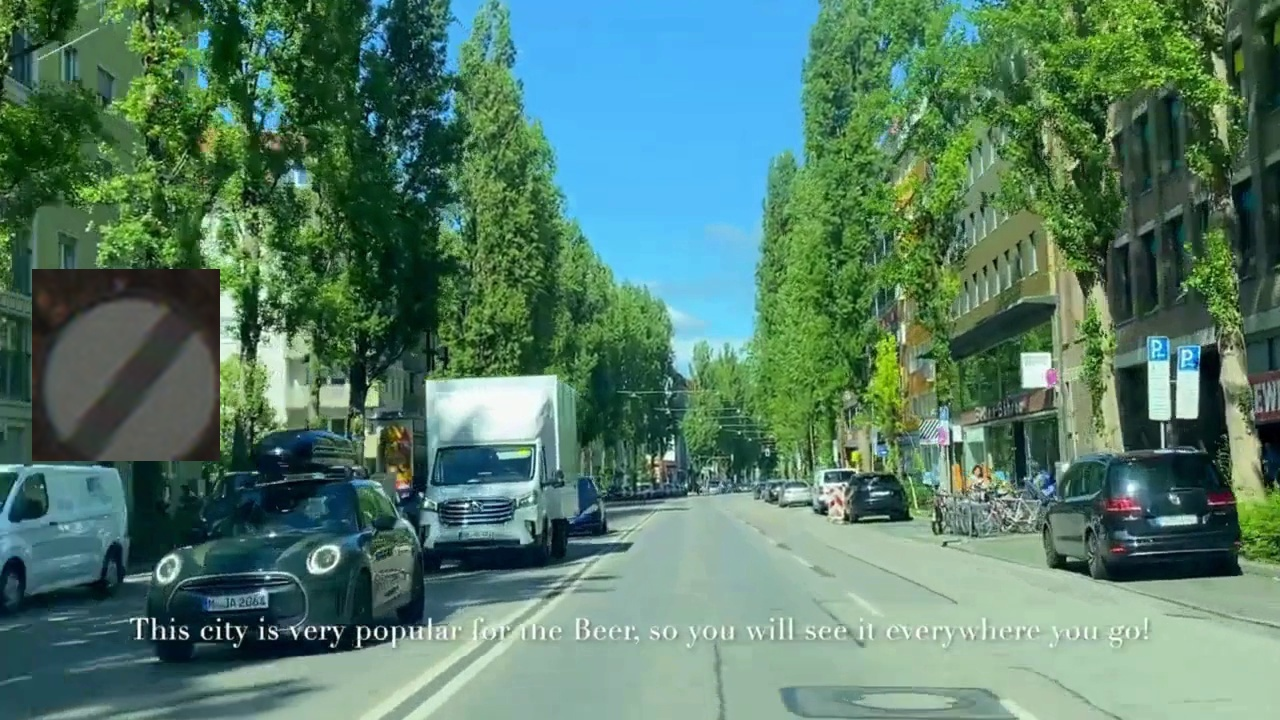End limits: (32, 269, 220, 461)
